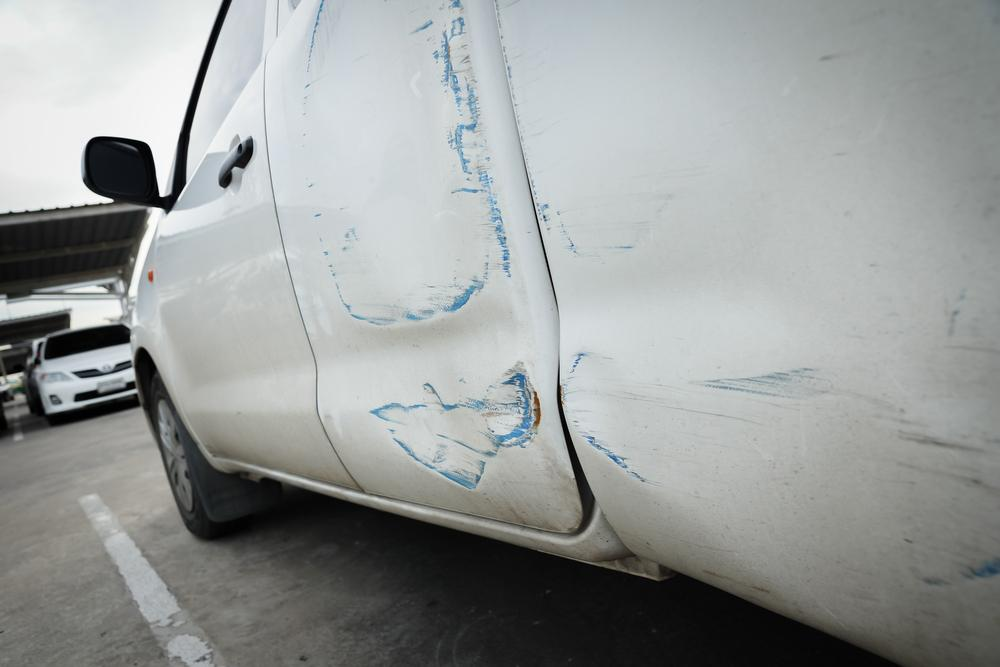scratch: (560, 346, 1000, 588), (295, 0, 520, 336), (366, 365, 541, 488), (532, 176, 685, 257)
